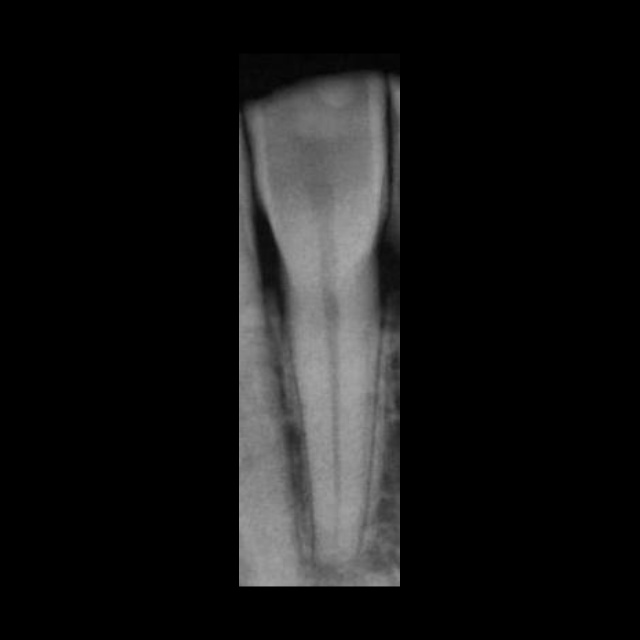tooth: (247, 68, 390, 570)
